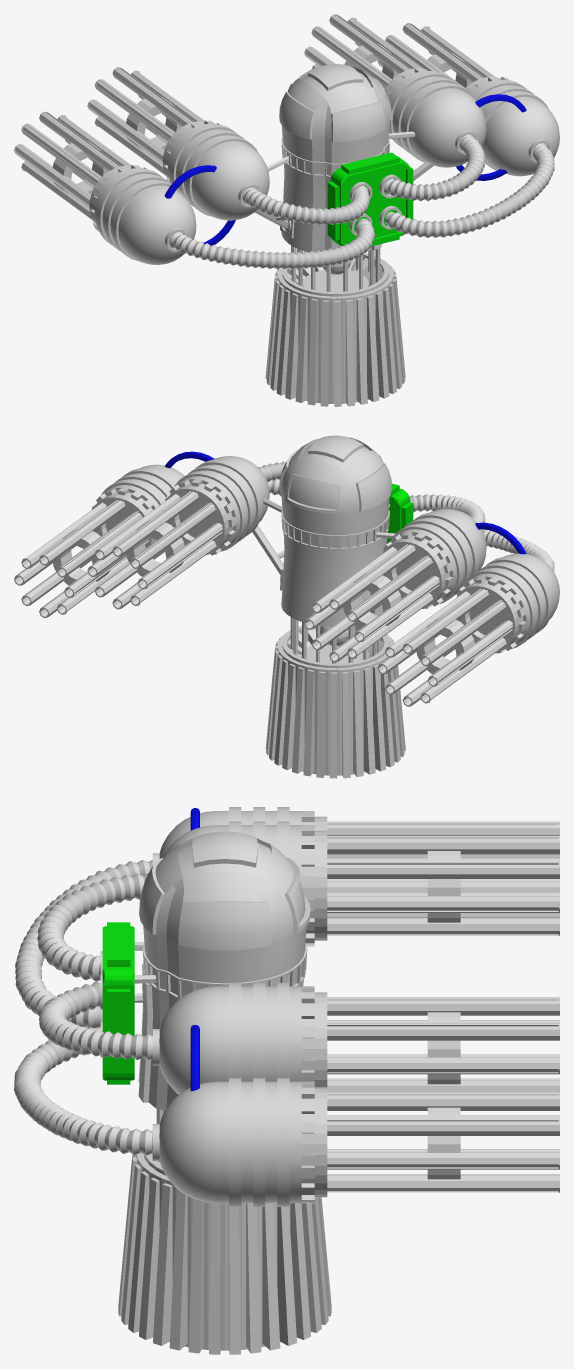
File: MachineGun_LV4-6.fbx
The picture shows the model from 3 angles, top to bottom: view 1: azimuth 30°, elevation 25°; view 2: azimuth 150°, elevation 25°; view 3: azimuth 270°, elevation 25°; orthographic projection. The views are drawn at different scales.
Parts seen in each view (by area): view 1: Cylinder.029, Cube.043, Turrel.005, Cube.049, Cube.056, Cube.055, Cube.052, Cylinder.036, Cylinder.038, Cube.044, Cube.050, Cylinder.033 (+5 smaller); view 2: Cylinder.029, Turrel.005, Cube.043, Cube.044, Cube.055, Cube.056, Cube.050, Cube.049, Cylinder.033, Cube.052, Cylinder.030, Cube.058 (+6 smaller); view 3: Cylinder.029, Turrel.005, Cube.050, Cube.056, Cube.049, Cube.044, Cube.043, Cube.055, Cylinder.038, Cylinder.033, Cube.052, Cylinder.037 (+5 smaller).
Part boxes in pixels (<box>): Cylinder.029: <box>265,252,405,406</box>; Cube.043: <box>163,67,486,220</box>; Turrel.005: <box>279,64,391,252</box>; Cube.049: <box>90,76,559,264</box>; Cube.056: <box>87,67,204,177</box>; Cube.055: <box>14,111,131,222</box>; Cube.052: <box>327,152,413,245</box>; Cylinder.036: <box>169,218,374,269</box>; Cylinder.038: <box>384,143,554,237</box>; Cube.044: <box>304,14,427,93</box>; Cube.050: <box>377,23,500,90</box>; Cylinder.033: <box>242,186,369,225</box>; Cylinder.029: <box>265,625,405,778</box>; Turrel.005: <box>279,435,391,626</box>; Cube.043: <box>165,456,486,608</box>; Cube.044: <box>87,483,232,609</box>; Cube.055: <box>377,580,523,706</box>; Cube.056: <box>304,535,449,662</box>; Cube.050: <box>14,491,156,618</box>; Cube.049: <box>91,464,559,653</box>; Cylinder.033: <box>410,494,485,529</box>; Cube.052: <box>387,483,413,543</box>; Cylinder.030: <box>290,617,380,663</box>; Cube.058: <box>126,520,184,576</box>; Cylinder.029: <box>118,1130,331,1354</box>; Turrel.005: <box>138,831,310,1110</box>; Cube.050: <box>301,1087,559,1197</box>; Cube.056: <box>301,830,559,940</box>; Cube.049: <box>159,807,314,1206</box>; Cube.044: <box>301,992,559,1092</box>; Cube.043: <box>159,821,314,1094</box>; Cube.055: <box>301,816,559,917</box>; Cylinder.038: <box>14,1027,152,1155</box>; Cylinder.033: <box>37,873,148,981</box>; Cube.052: <box>102,922,134,1084</box>; Cylinder.037: <box>39,981,152,1060</box>.
Size of the model in its own units: 390 by 265 by 277.
